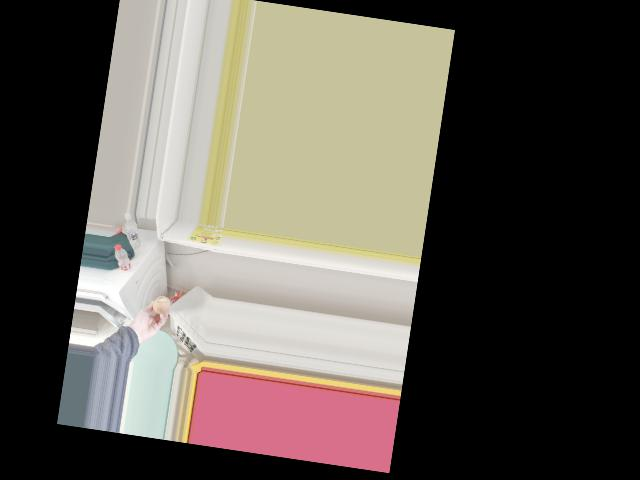sweet_potato: (151, 295, 169, 317)
